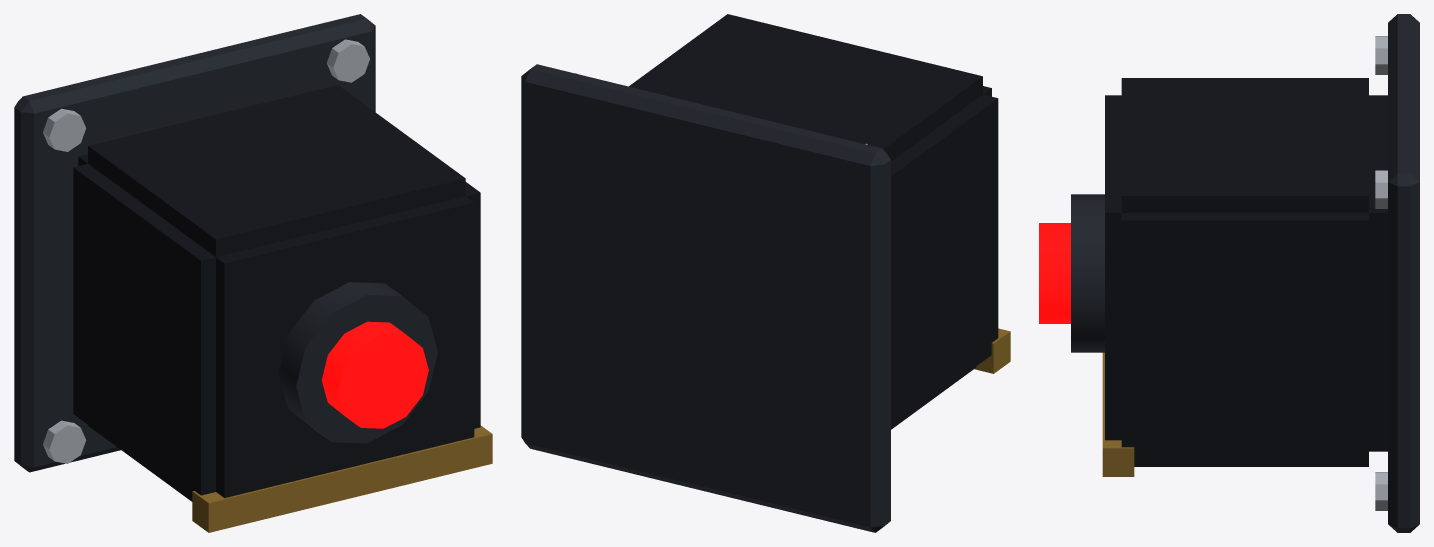
Rendered from laser_emitter.glb.
3 views of the same model, side by side, from view 1: azimuth 30°, elevation 25°; view 2: azimuth 150°, elevation 25°; view 3: azimuth 270°, elevation 25° (orthographic). The views are drawn at different scales.
Visible parts, largest first — view 1: laser_emitter, lens; view 2: laser_emitter; view 3: laser_emitter, lens.
Boxes of the visible parts, x1,y1,x2,y2 form: laser_emitter: (14,14,492,532); lens: (321,321,428,428); laser_emitter: (521,14,1010,532); laser_emitter: (1071,14,1419,532); lens: (1039,223,1070,323).
Bounding box in the file's own units: 0.25 × 0.25 × 0.24.
